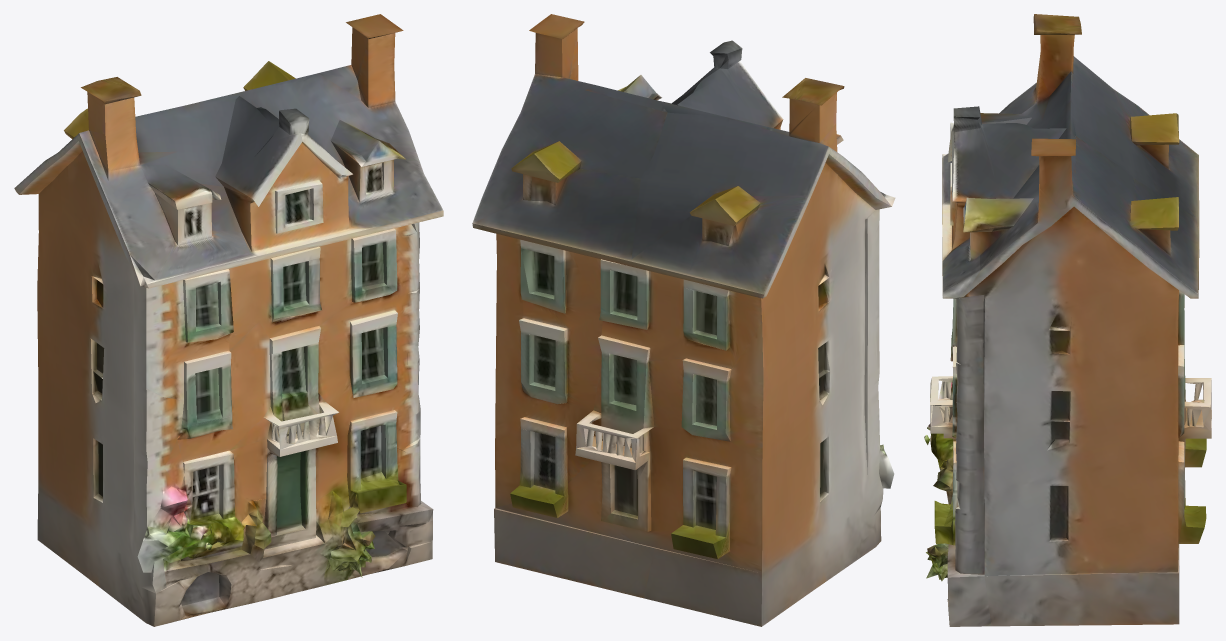
File: m2OldTownHouseBg.glb
The picture shows the model from 3 angles, left to right: view 1: azimuth 30°, elevation 25°; view 2: azimuth 150°, elevation 25°; view 3: azimuth 270°, elevation 25°; orthographic projection. The views are drawn at different scales.
Visible parts, largest first — view 1: model; view 2: model; view 3: model.
Boxes of the visible parts, x1=… form: model: x1=14, y1=14, x2=443, y2=626; model: x1=472, y1=14, x2=895, y2=626; model: x1=924, y1=14, x2=1211, y2=626.
Size of the model in its own units: 1.23 by 1.89 by 1.03.
Materials: 1 (1 with a texture image).
